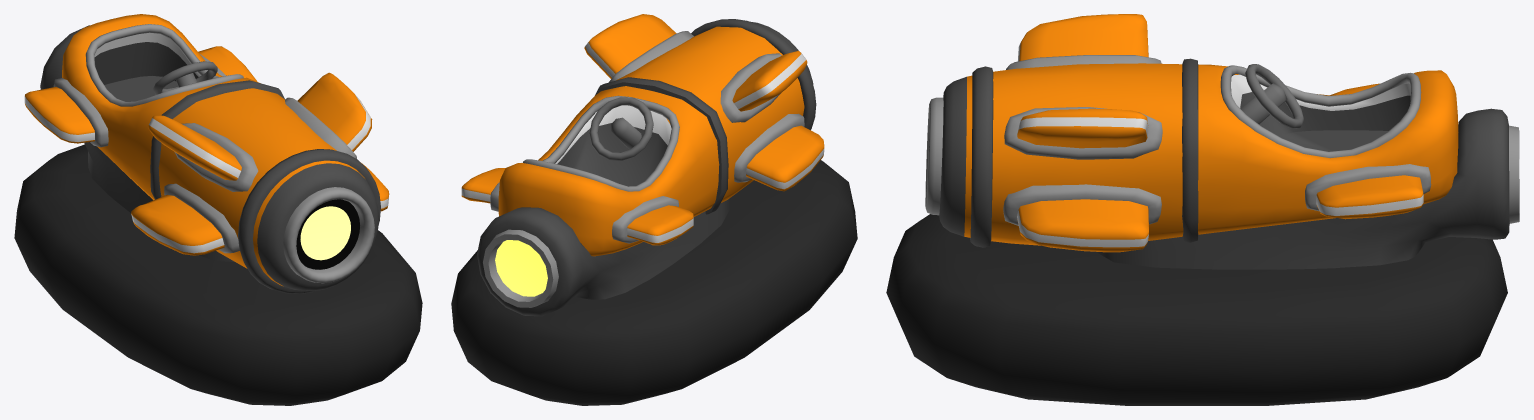
The model's file is mesh_Car_InGame_T.fbx.
The picture shows the model from 3 angles, left to right: view 1: azimuth 30°, elevation 25°; view 2: azimuth 150°, elevation 25°; view 3: azimuth 270°, elevation 25°; orthographic projection. The views are drawn at different scales.
Parts seen in each view (by area): view 1: mesh_Car_InGame_T; view 2: mesh_Car_InGame_T; view 3: mesh_Car_InGame_T.
Boxes of the visible parts, x1,y1,x2,y2 form: mesh_Car_InGame_T: (14,14,422,405); mesh_Car_InGame_T: (451,14,857,405); mesh_Car_InGame_T: (886,14,1519,405).
Size of the model in its own units: 1.77 by 1.53 by 3.03.
